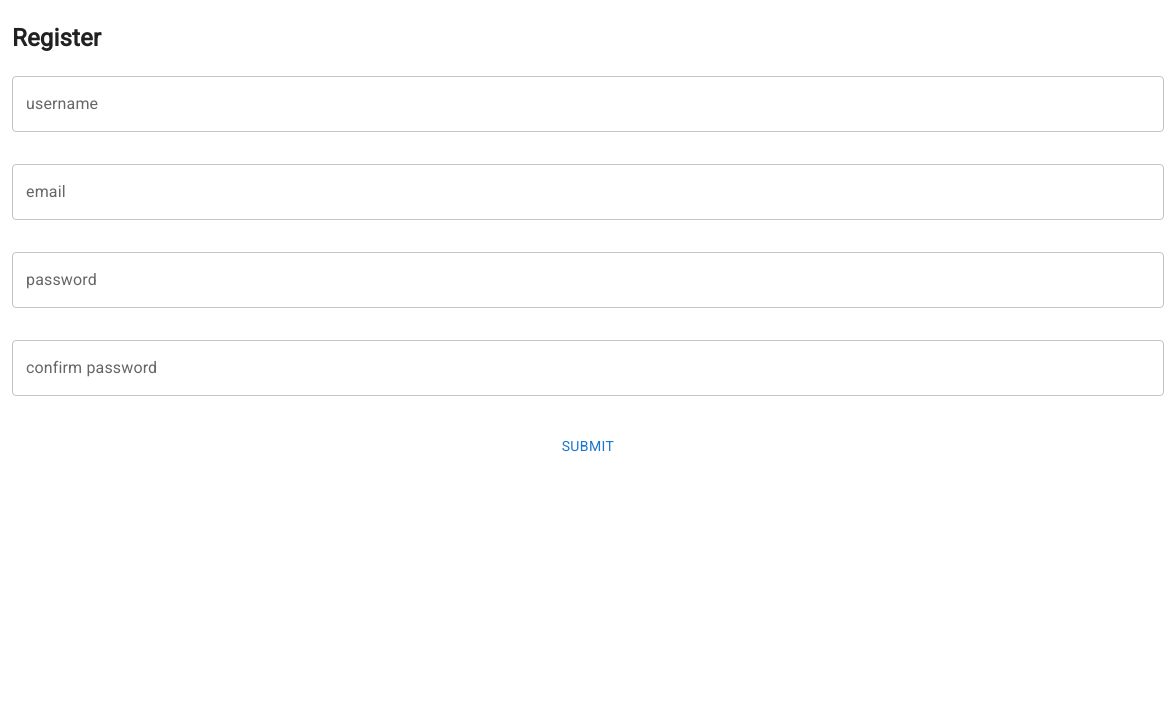
Test: Register Page › displays error message for missing username
Step 1. Type "user@test.com" into the field with placeholder "email" → (588, 192), box [12,164,1164,220]
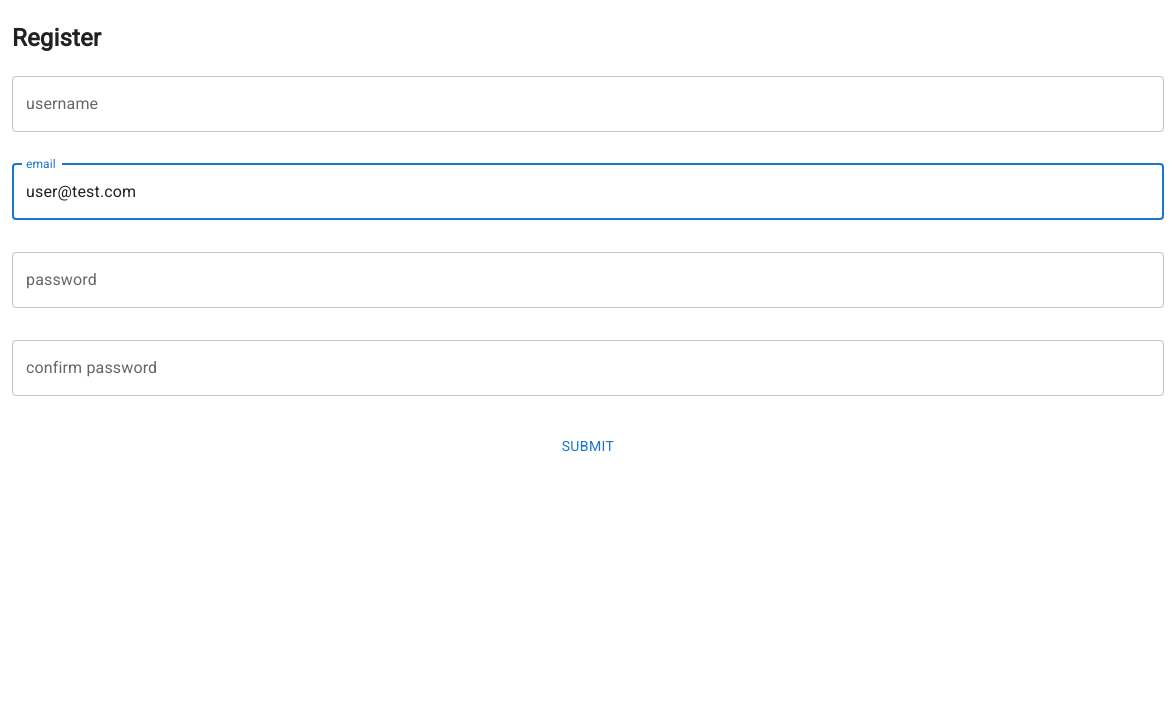
Step 2. Type "password123" into the password field with placeholder "password" → (588, 280), box [12,252,1164,308]
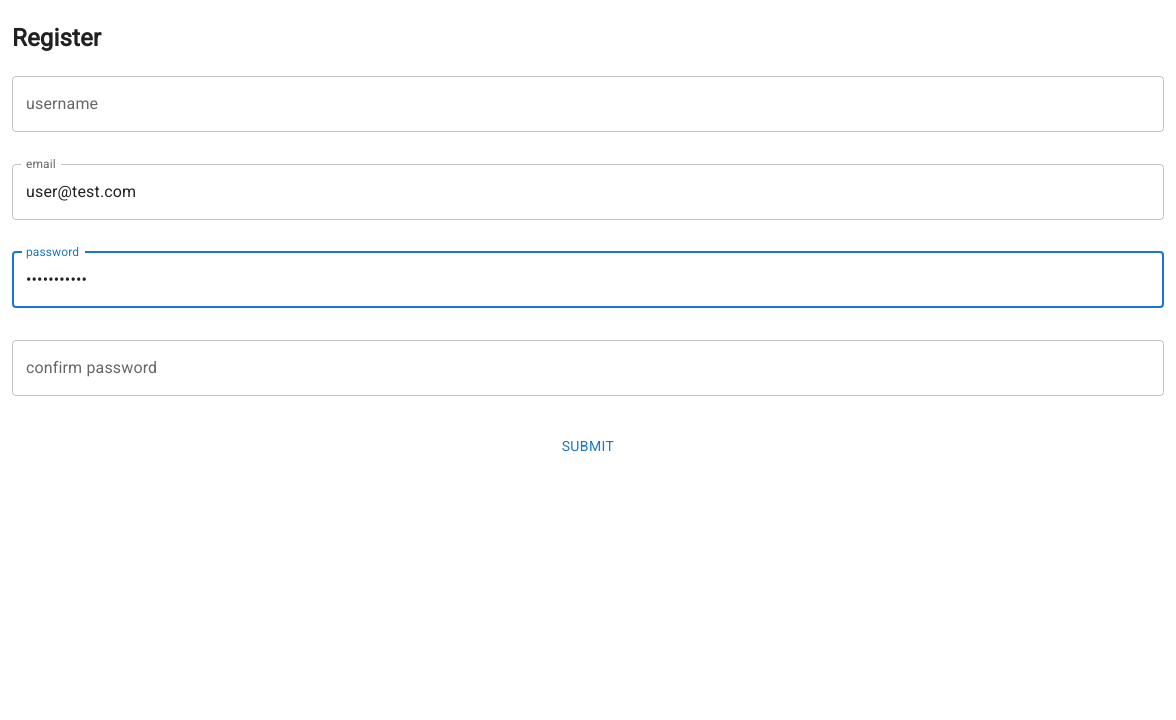
Step 3. Type "password123" into the password field with placeholder "confirm password" → (588, 368), box [12,340,1164,396]
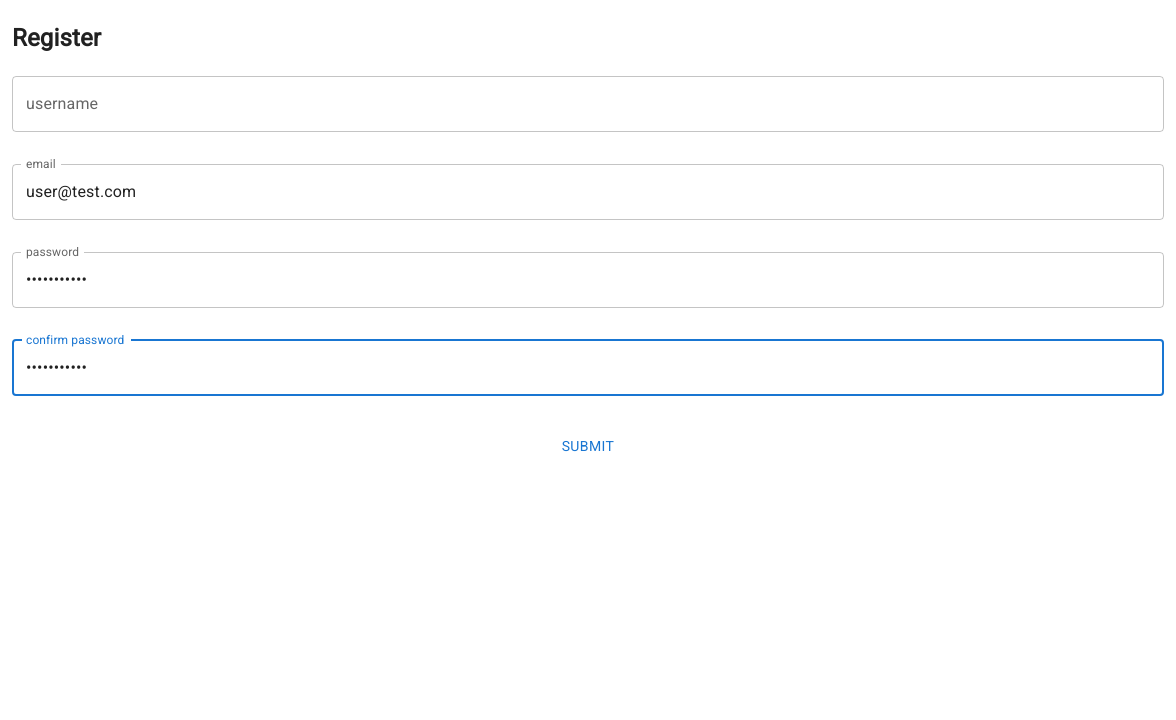
Step 4. Click the button "Submit" → (588, 446), box [12,428,1164,464]
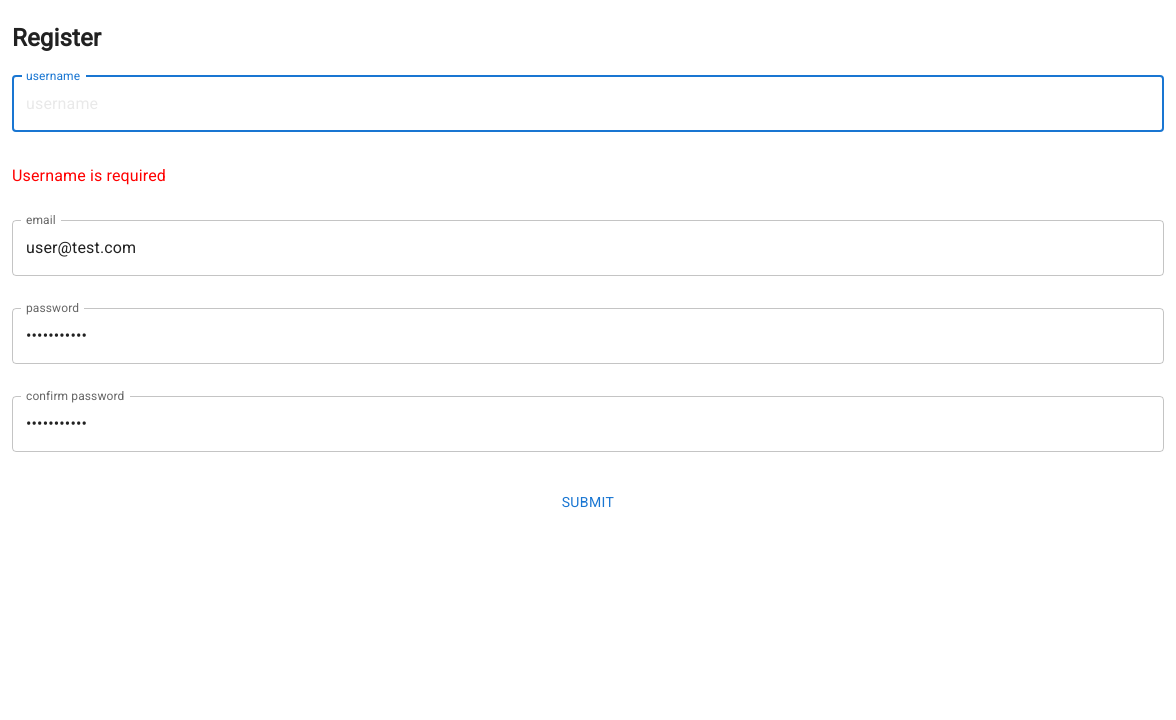
Check: the text "Username is required" is shown, box [12,166,166,185]
